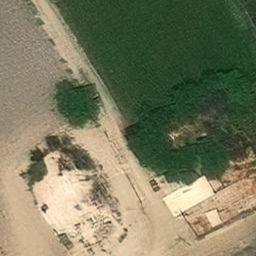manzanas: (149, 172, 255, 243)
